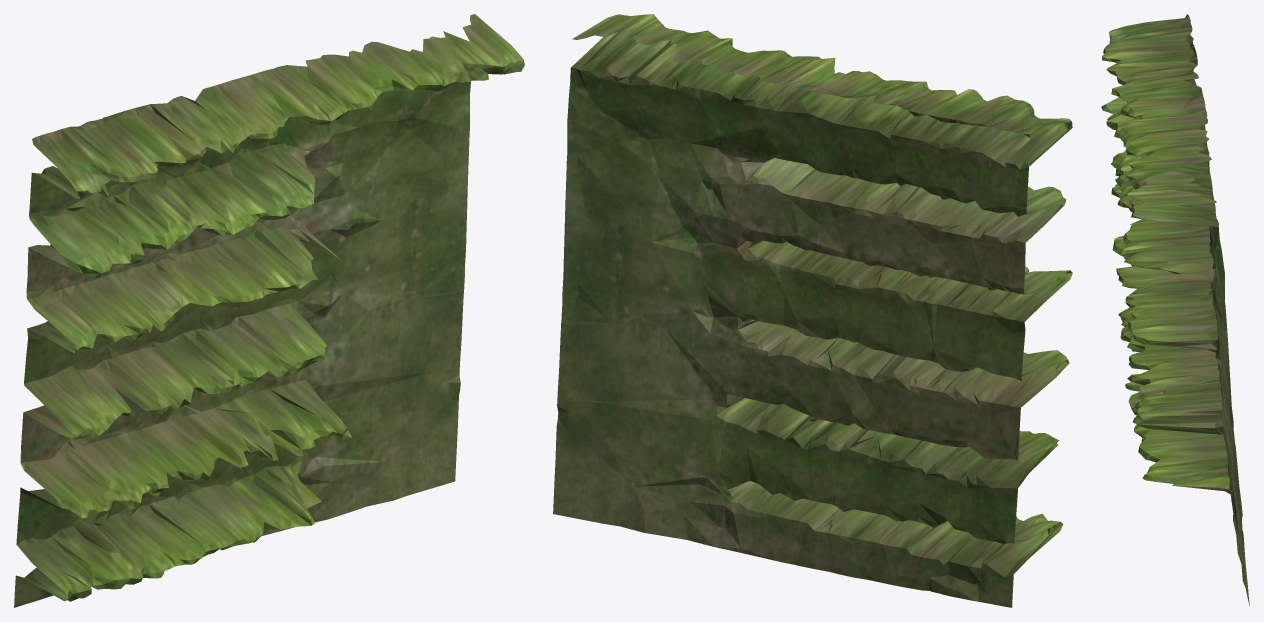
The model's file is map_60_70.obj.
3 renders of one model, left to right at view 1: azimuth 30°, elevation 25°; view 2: azimuth 150°, elevation 25°; view 3: azimuth 270°, elevation 25°, orthographic. The views are drawn at different scales.
Visible parts, largest first — view 1: grp1; view 2: grp1; view 3: grp1.
Boxes of the visible parts, x1,y1,x2,y2 form: grp1: (14, 14, 524, 607); grp1: (553, 14, 1072, 607); grp1: (1101, 14, 1249, 605).
Size of the model in its own units: 10 by 10 by 3.33.
1 material, 1 textured.
